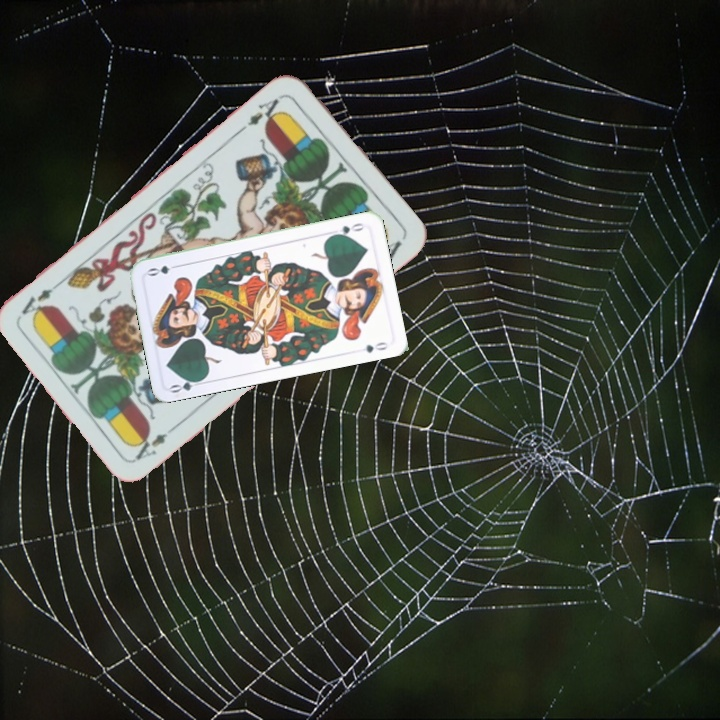EA: (129, 420, 181, 463), (243, 90, 286, 129)
GO: (166, 374, 207, 396), (328, 219, 368, 239)
